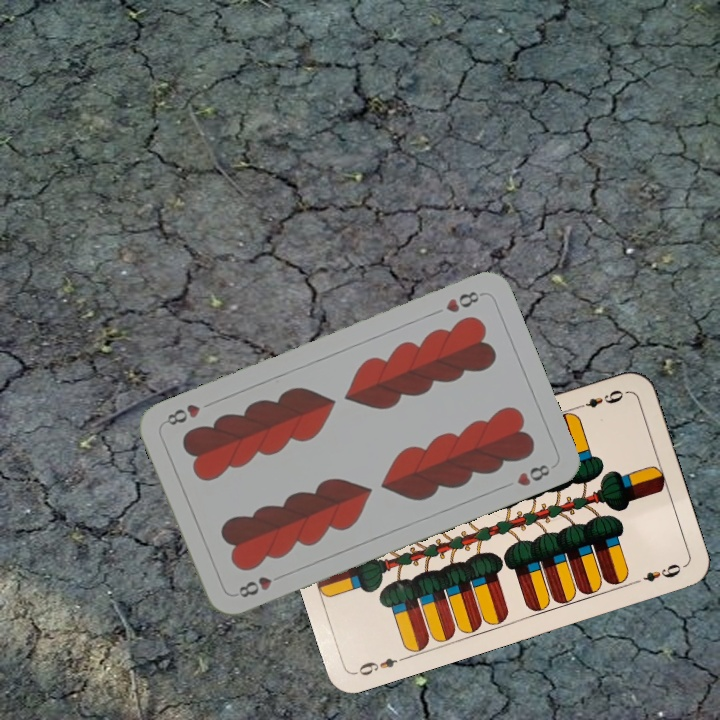E9: (571, 385, 629, 412), (352, 652, 410, 678)
H8: (441, 287, 486, 316), (234, 572, 275, 601)
